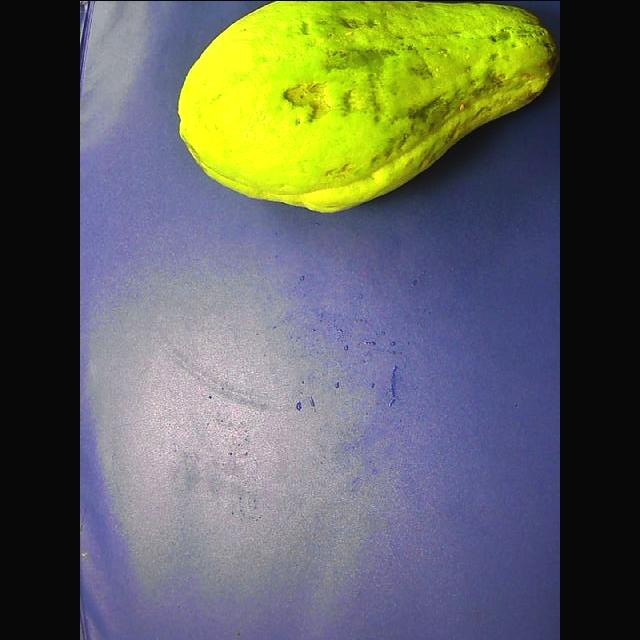chayote: (178, 1, 557, 211)
